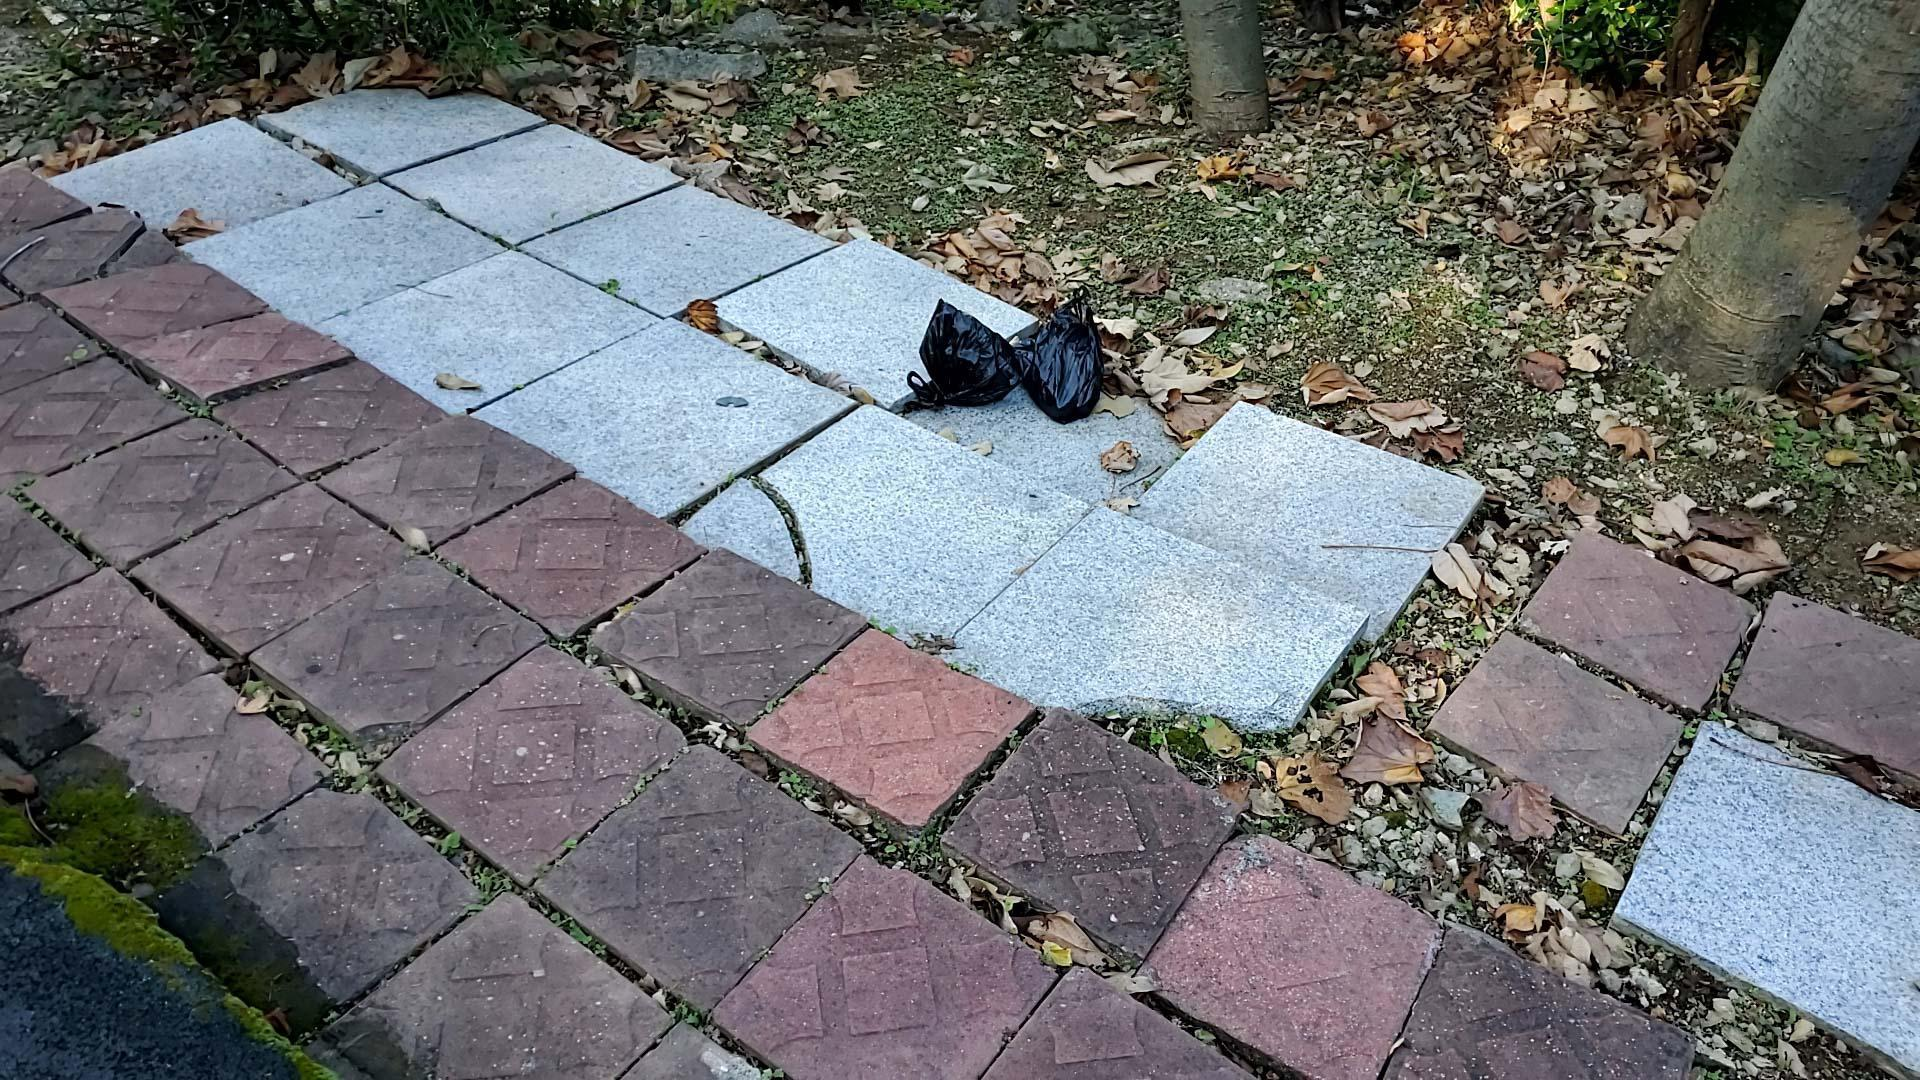black_bag: (891, 290, 1022, 422), (1011, 282, 1106, 425)
